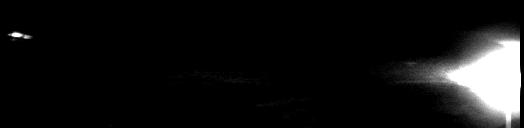positive: (493, 38, 520, 49)
